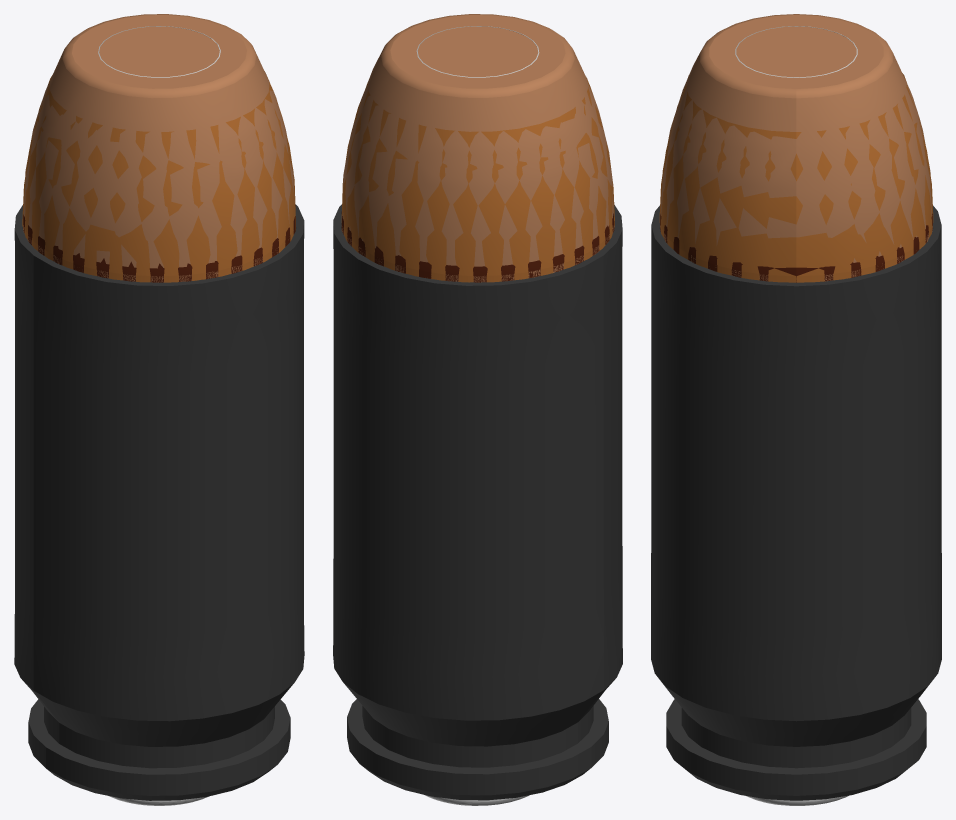
3 views of the same model, side by side, from view 1: azimuth 30°, elevation 25°; view 2: azimuth 150°, elevation 25°; view 3: azimuth 270°, elevation 25° (orthographic).
Parts seen in each view (by area): view 1: o4_IndexedFaceSet_o4_IndexedFaceSet.007, o12_IndexedFaceSet.001_o12_IndexedFaceSet.008, o12_IndexedFaceSet.003_o12_IndexedFaceSet.010, o12_IndexedFaceSet_o12_IndexedFaceSet.007; view 2: o4_IndexedFaceSet_o4_IndexedFaceSet.007, o12_IndexedFaceSet.001_o12_IndexedFaceSet.008, o12_IndexedFaceSet.003_o12_IndexedFaceSet.010, o12_IndexedFaceSet_o12_IndexedFaceSet.007; view 3: o4_IndexedFaceSet_o4_IndexedFaceSet.007, o12_IndexedFaceSet.001_o12_IndexedFaceSet.008, o12_IndexedFaceSet.003_o12_IndexedFaceSet.010, o12_IndexedFaceSet_o12_IndexedFaceSet.007.
Boxes of the visible parts, x1=… form: o4_IndexedFaceSet_o4_IndexedFaceSet.007: x1=14, y1=204, x2=304, y2=800; o12_IndexedFaceSet.001_o12_IndexedFaceSet.008: x1=23, y1=14, x2=294, y2=282; o12_IndexedFaceSet.003_o12_IndexedFaceSet.010: x1=22, y1=71, x2=295, y2=282; o12_IndexedFaceSet_o12_IndexedFaceSet.007: x1=23, y1=205, x2=295, y2=282; o4_IndexedFaceSet_o4_IndexedFaceSet.007: x1=333, y1=204, x2=622, y2=800; o12_IndexedFaceSet.001_o12_IndexedFaceSet.008: x1=341, y1=14, x2=614, y2=282; o12_IndexedFaceSet.003_o12_IndexedFaceSet.010: x1=341, y1=77, x2=614, y2=282; o12_IndexedFaceSet_o12_IndexedFaceSet.007: x1=341, y1=211, x2=614, y2=282; o4_IndexedFaceSet_o4_IndexedFaceSet.007: x1=651, y1=205, x2=941, y2=800; o12_IndexedFaceSet.001_o12_IndexedFaceSet.008: x1=660, y1=14, x2=932, y2=281; o12_IndexedFaceSet.003_o12_IndexedFaceSet.010: x1=659, y1=73, x2=933, y2=282; o12_IndexedFaceSet_o12_IndexedFaceSet.007: x1=660, y1=213, x2=932, y2=282.
Bounding box in the file's own units: 11.05 × 30.48 × 11.05.
